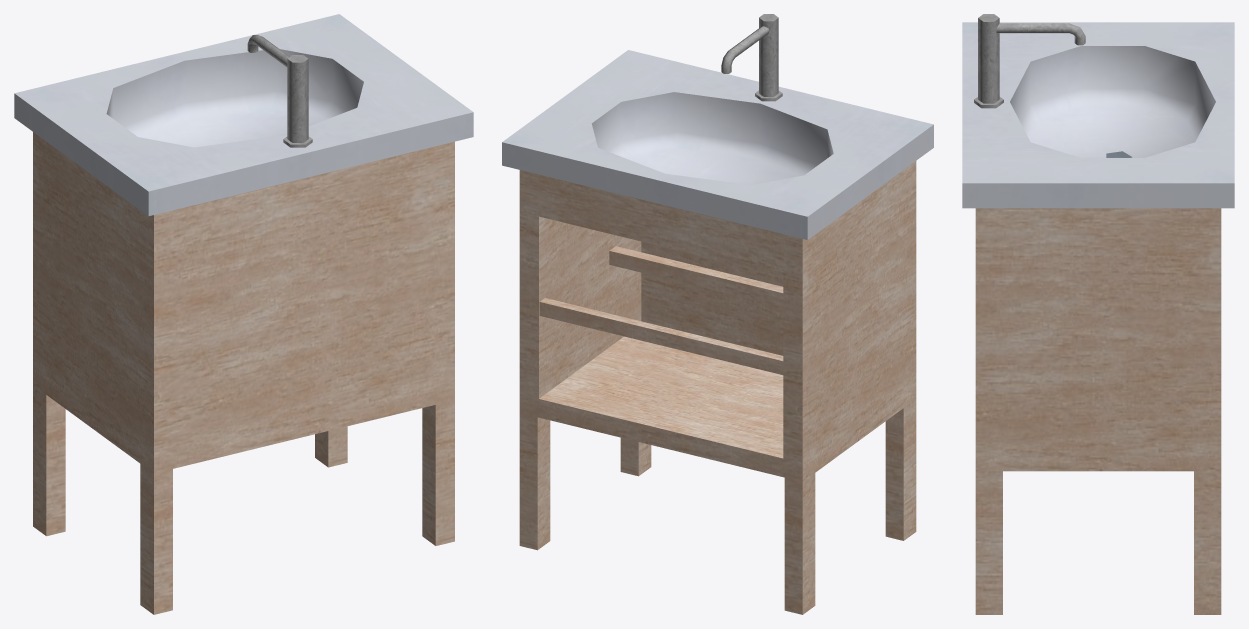
The model's file is Washbasin_03.glb.
3 renders of one model, left to right at view 1: azimuth 30°, elevation 25°; view 2: azimuth 150°, elevation 25°; view 3: azimuth 270°, elevation 25°, orthographic. The views are drawn at different scales.
Parts seen in each view (by area): view 1: Washbasin_03; view 2: Washbasin_03; view 3: Washbasin_03.
Boxes of the visible parts, <box> form: Washbasin_03: <box>14,14,473,614</box>; Washbasin_03: <box>502,14,933,614</box>; Washbasin_03: <box>962,14,1234,614</box>.
Bounding box in the file's own units: 0.8026 × 1.21 × 0.5739.
Materials: 4 (4 with a texture image).
